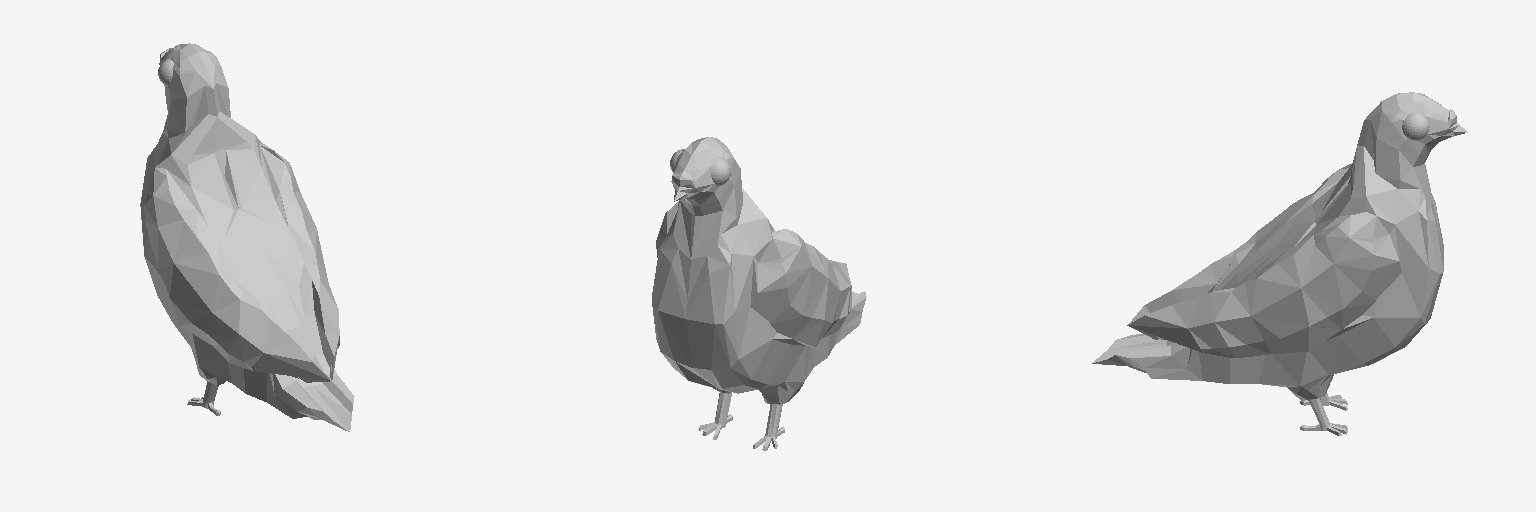
3 renders of one model, left to right at view 1: azimuth 30°, elevation 25°; view 2: azimuth 150°, elevation 25°; view 3: azimuth 270°, elevation 25°, orthographic.
Visible parts, largest first — view 1: Plane_Plane.001; view 2: Plane_Plane.001; view 3: Plane_Plane.001.
Boxes of the visible parts, <box> form: Plane_Plane.001: <box>140,43,354,431</box>; Plane_Plane.001: <box>652,137,866,450</box>; Plane_Plane.001: <box>1092,92,1467,435</box>.
Size of the model in its own units: 0.367 by 0.8033 by 0.8377.